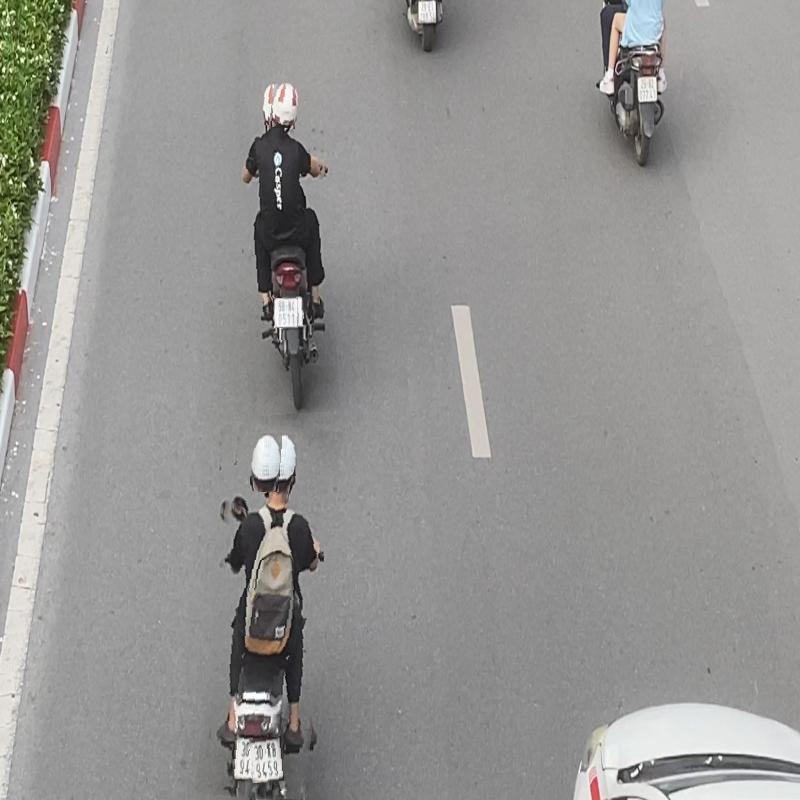helmet: (250, 433, 281, 492), (270, 82, 301, 128)
licenseplate: (250, 736, 284, 782), (274, 298, 298, 328)
motorcyclist: (205, 423, 334, 800), (240, 77, 335, 415)
